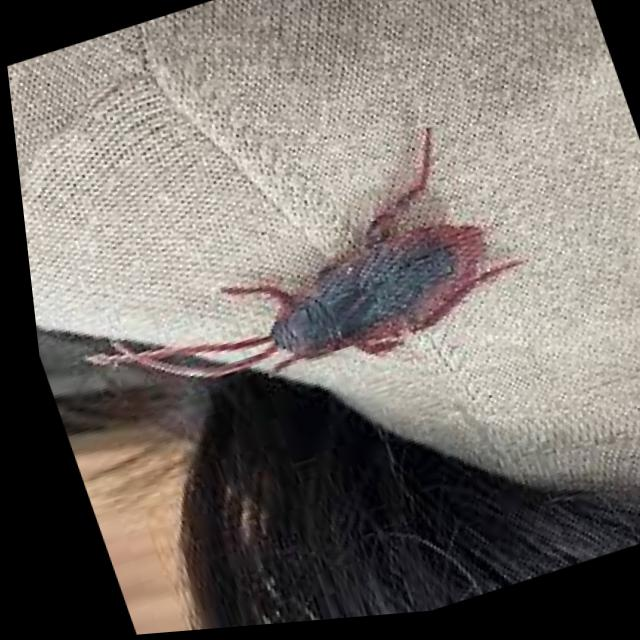Cockroach: (47, 143, 612, 470)
